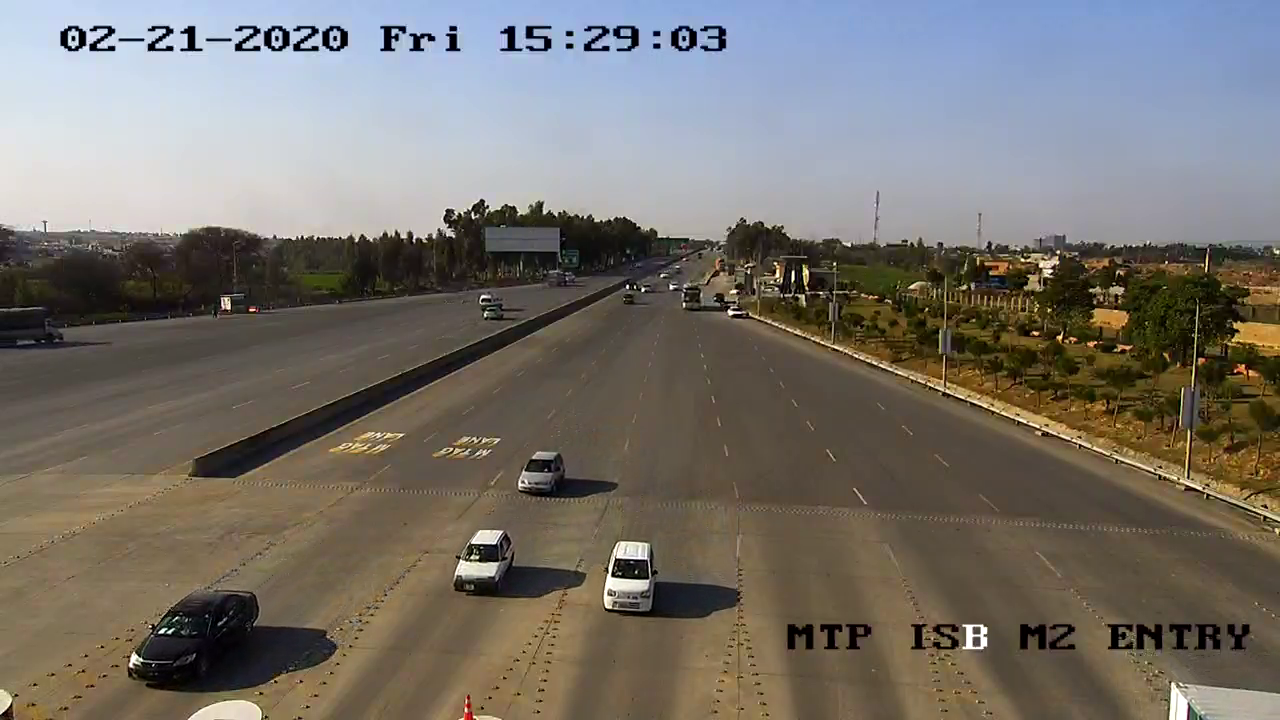f1: (115, 568, 272, 695), (591, 531, 669, 626), (444, 523, 520, 609)
